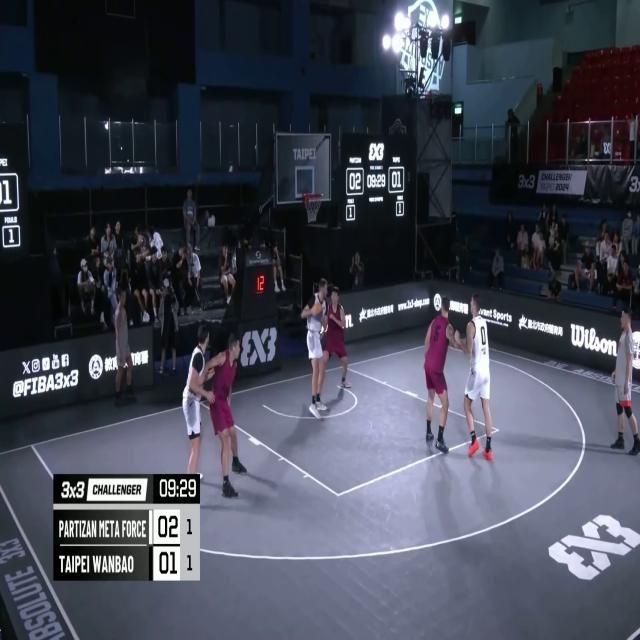ball: (312, 298, 324, 320)
hoop: (302, 188, 324, 224)
player: (202, 331, 244, 498), (453, 294, 493, 462), (424, 296, 460, 452), (184, 322, 218, 481), (300, 274, 331, 422), (318, 284, 350, 397)
